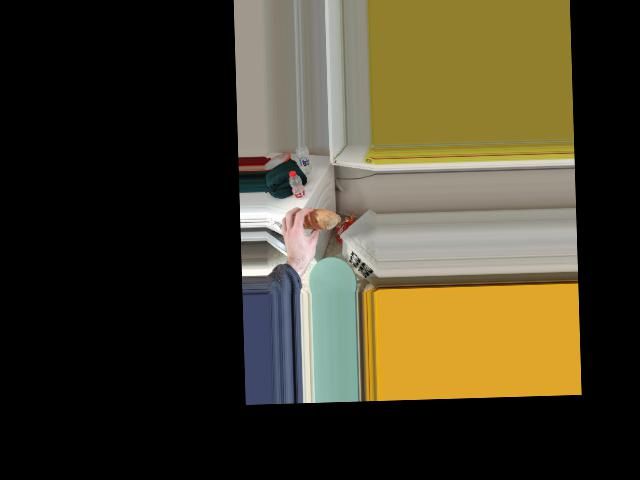sweet_potato: (300, 208, 332, 230)
